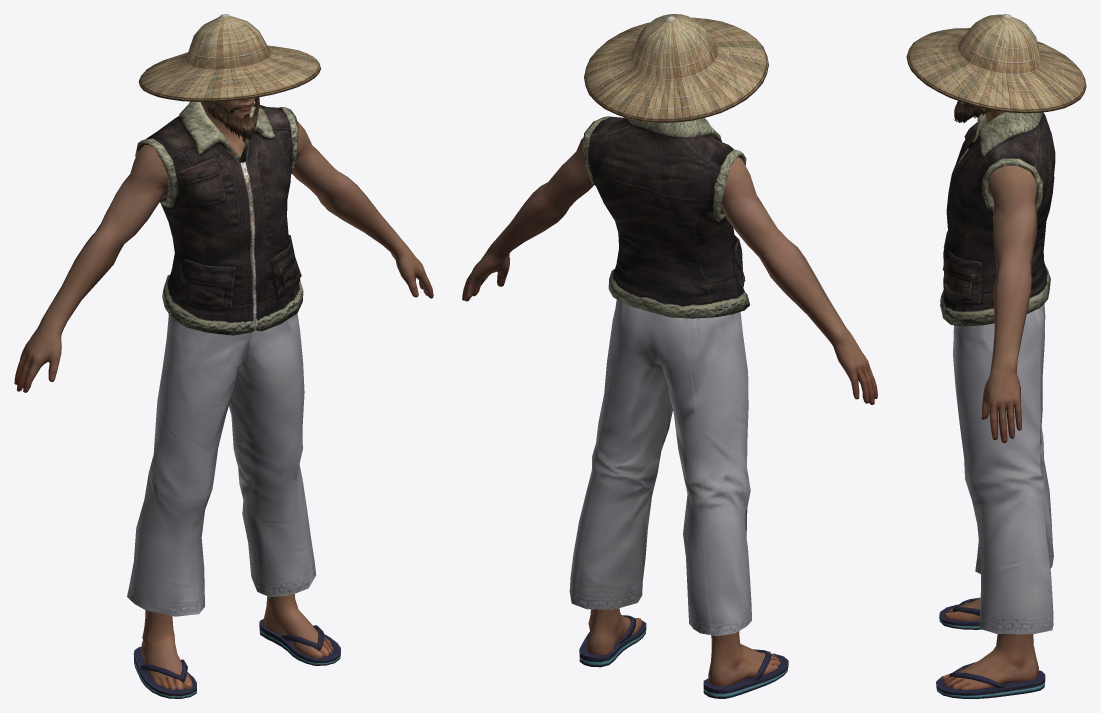
The model's file is real_freefire_pace.glb.
3 renders of one model, left to right at view 1: azimuth 30°, elevation 25°; view 2: azimuth 150°, elevation 25°; view 3: azimuth 270°, elevation 25°, orthographic.
Visible parts, largest first — view 1: Object_4, Object_5, Object_3, Object_6, Object_2, Object_7; view 2: Object_4, Object_5, Object_3, Object_6, Object_2; view 3: Object_4, Object_5, Object_3, Object_6, Object_2, Object_7.
Boxes of the visible parts, box(x1,y1,x2,y2) form: Object_4: box(127, 313, 316, 616); Object_5: box(135, 101, 303, 335); Object_3: box(14, 98, 433, 689); Object_6: box(138, 14, 320, 101); Object_2: box(133, 618, 340, 698); Object_7: box(207, 97, 259, 140); Object_4: box(569, 299, 751, 636); Object_5: box(583, 116, 749, 318); Object_3: box(462, 137, 877, 686); Object_6: box(584, 14, 768, 122); Object_2: box(579, 615, 788, 698); Object_4: box(953, 303, 1053, 634); Object_5: box(940, 112, 1055, 326); Object_3: box(941, 110, 1038, 689); Object_6: box(906, 14, 1086, 113); Object_2: box(936, 597, 1045, 698); Object_7: box(953, 101, 991, 123).
Bounding box in the file's own units: 4.27 × 6.41 × 1.63.
6 materials, 6 textured.
